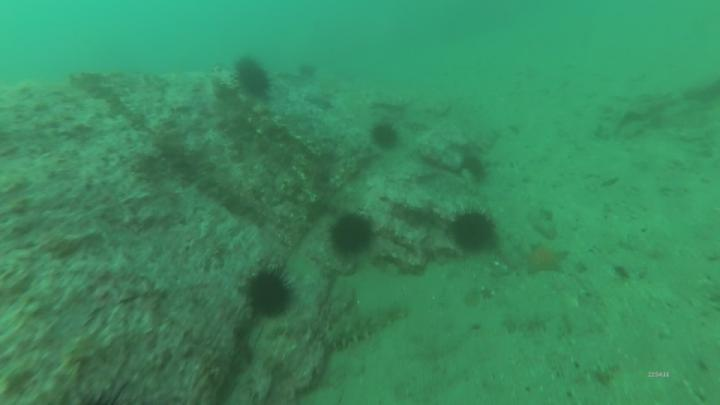echinus: (320, 305, 419, 348), (503, 315, 555, 339)
holothurian: (522, 241, 569, 273)
starfish: (244, 271, 295, 317), (330, 214, 375, 255), (451, 213, 497, 252), (236, 59, 274, 98), (372, 124, 398, 150), (461, 157, 487, 182)
